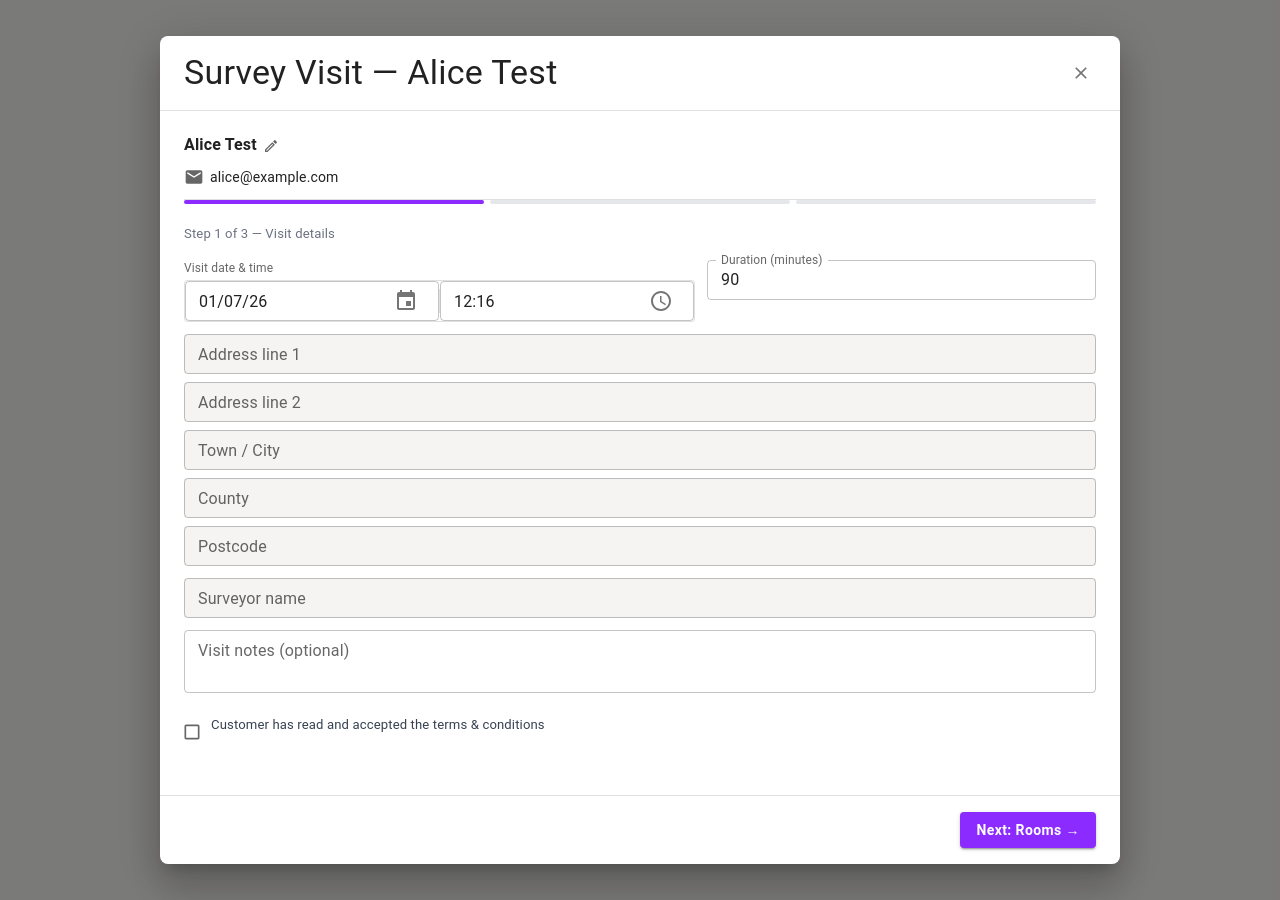
Test: SurveyVisitWizard — hasUnsavedDraftData / discard guard › hasUnsavedDraftData returns true when only visitNotes is non-empty — discard dialog appears on Close
The image size is (1280, 900).
Expected: the text "Step 1 of 3 — Visit details" is shown, [184, 226, 335, 241]
Type "Some site notes" into the text box labelled "Visit notes (optional)".
click(640, 662); type("Some site notes")  # box [198, 639, 1082, 685]
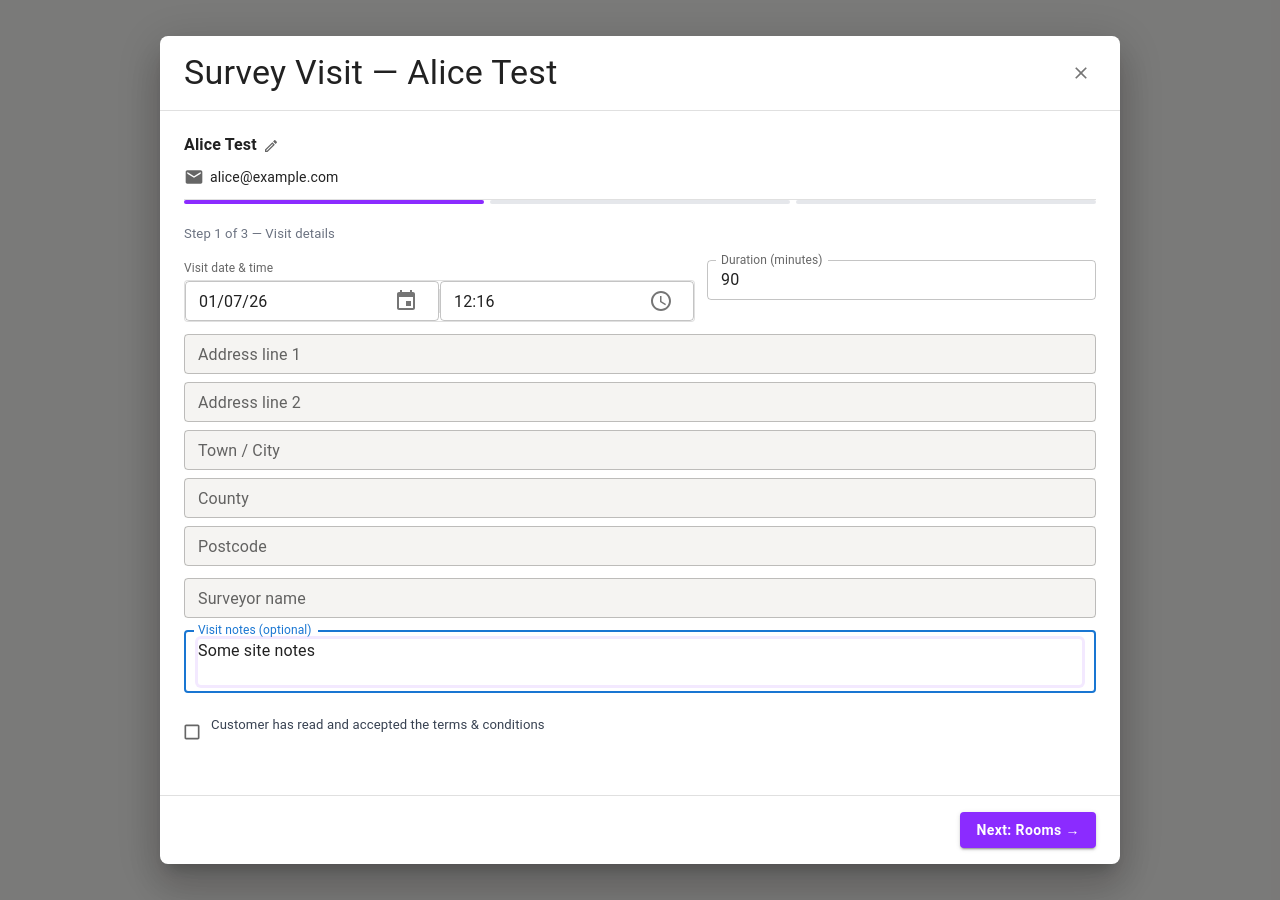
# Click the modal Close button.
Click the button named "Close".
click(1081, 73)  # box [1066, 58, 1096, 88]
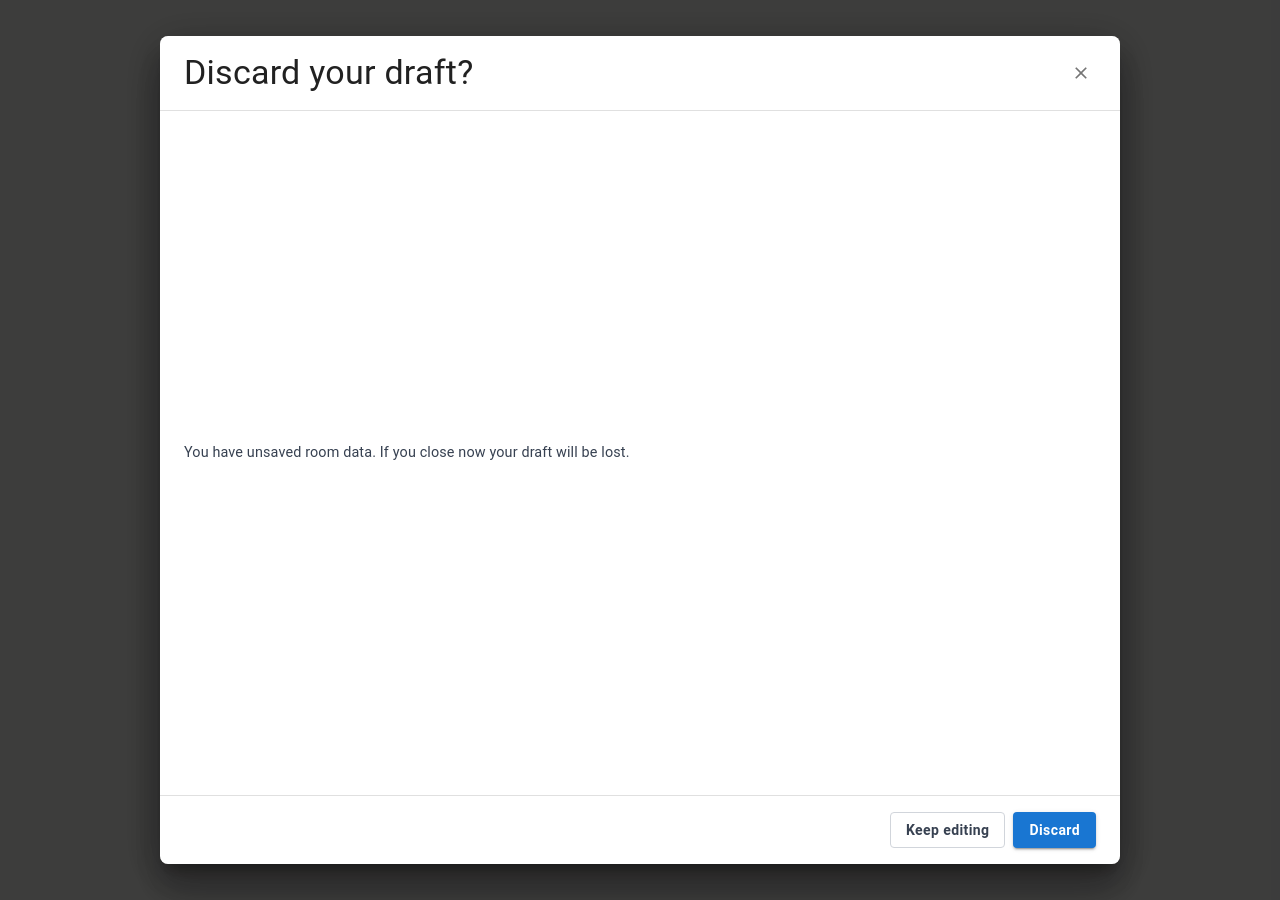
Expected: the heading "Discard your draft?" is shown, [184, 52, 474, 92]
